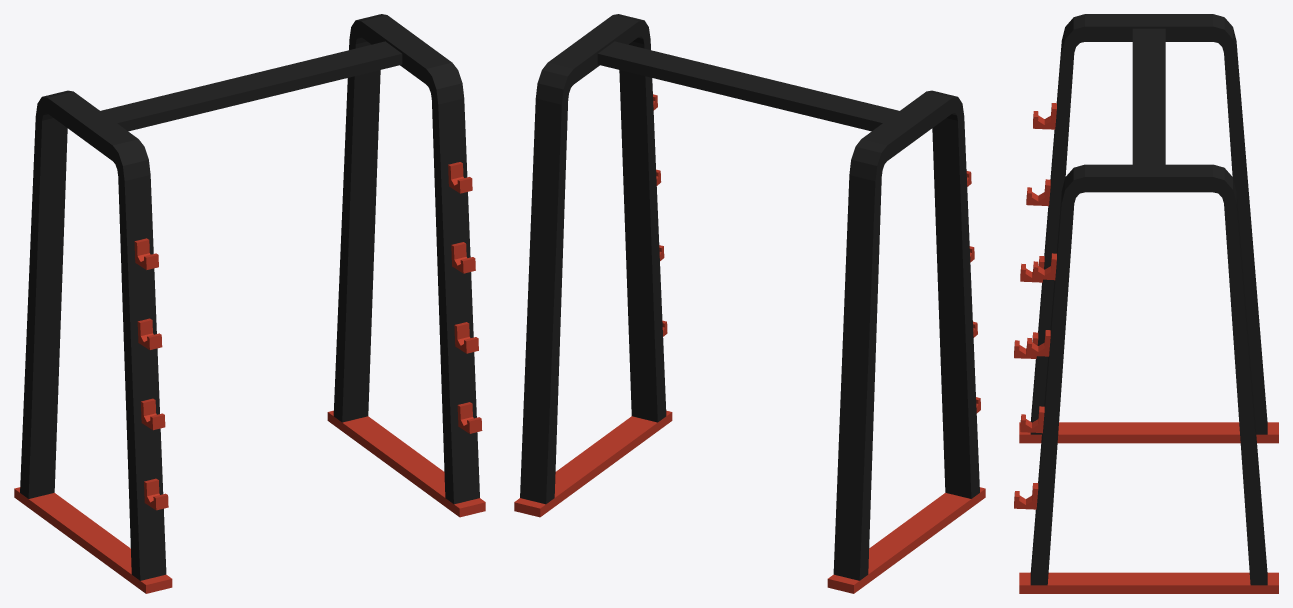
Rendered from Gia_ta 1.fbx.
The picture shows the model from 3 angles, left to right: view 1: azimuth 30°, elevation 25°; view 2: azimuth 150°, elevation 25°; view 3: azimuth 270°, elevation 25°; orthographic projection.
Visible parts, largest first — view 1: Mesh_gia_ta_2.002, Mesh_gia_ta_2.004, Mesh_gia_ta_2.016, Mesh_gia_ta_2.001, Mesh_gia_ta_2.003; view 2: Mesh_gia_ta_2.002, Mesh_gia_ta_2.004, Mesh_gia_ta_2.016, Mesh_gia_ta_2.001, Mesh_gia_ta_2.003; view 3: Mesh_gia_ta_2.004, Mesh_gia_ta_2.002, Mesh_gia_ta_2.003, Mesh_gia_ta_2.016, Mesh_gia_ta_2.001, Mesh_gia_ta_2.006, Mesh_gia_ta_2.011, Mesh_gia_ta_2.015, Mesh_gia_ta_2.010, Mesh_gia_ta_2.009, Mesh_gia_ta_2.005.
Boxes of the visible parts, x1=… form: Mesh_gia_ta_2.002: x1=20, y1=90, x2=166, y2=580; Mesh_gia_ta_2.004: x1=333, y1=14, x2=479, y2=504; Mesh_gia_ta_2.016: x1=101, y1=41, x2=402, y2=131; Mesh_gia_ta_2.001: x1=14, y1=487, x2=172, y2=593; Mesh_gia_ta_2.003: x1=327, y1=410, x2=485, y2=517; Mesh_gia_ta_2.002: x1=833, y1=90, x2=979, y2=580; Mesh_gia_ta_2.004: x1=520, y1=14, x2=666, y2=504; Mesh_gia_ta_2.016: x1=597, y1=41, x2=898, y2=131; Mesh_gia_ta_2.001: x1=827, y1=487, x2=985, y2=593; Mesh_gia_ta_2.003: x1=514, y1=410, x2=672, y2=517; Mesh_gia_ta_2.004: x1=1030, y1=164, x2=1267, y2=585; Mesh_gia_ta_2.002: x1=1030, y1=14, x2=1267, y2=434; Mesh_gia_ta_2.003: x1=1019, y1=572, x2=1278, y2=593; Mesh_gia_ta_2.016: x1=1132, y1=28, x2=1165, y2=164; Mesh_gia_ta_2.001: x1=1019, y1=422, x2=1278, y2=443; Mesh_gia_ta_2.006: x1=1026, y1=179, x2=1050, y2=206; Mesh_gia_ta_2.011: x1=1020, y1=406, x2=1044, y2=433; Mesh_gia_ta_2.015: x1=1014, y1=483, x2=1038, y2=509; Mesh_gia_ta_2.010: x1=1026, y1=330, x2=1050, y2=356; Mesh_gia_ta_2.009: x1=1033, y1=253, x2=1056, y2=280; Mesh_gia_ta_2.005: x1=1033, y1=103, x2=1056, y2=129.
Size of the model in its own units: 12.12 by 14.46 by 8.32.
